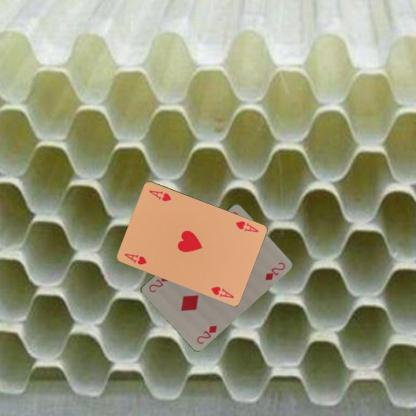2d: (194, 322, 219, 345)
Ah: (121, 251, 148, 266), (233, 218, 260, 233)
